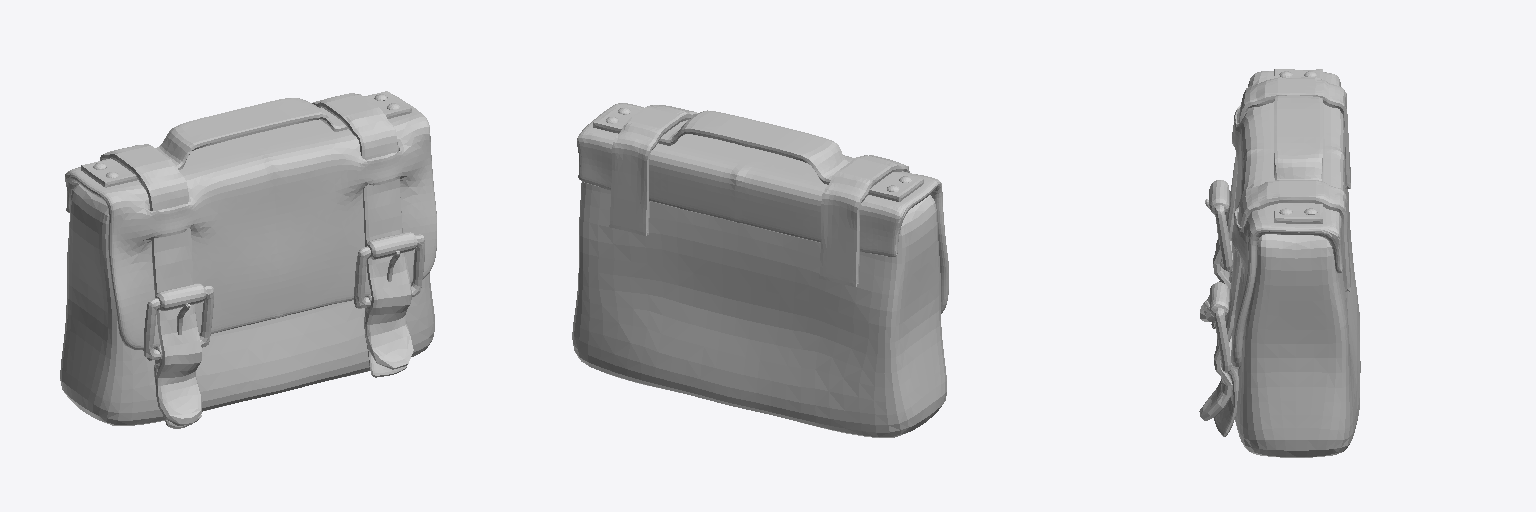
The model's file is sach1.OBJ.
3 views of the same model, side by side, from view 1: azimuth 30°, elevation 25°; view 2: azimuth 150°, elevation 25°; view 3: azimuth 270°, elevation 25° (orthographic).
Parts seen in each view (by area): view 1: Group55837, Group7265, Group63743, Group63742, Group35527, Group47810, Group47811, Group47809, Group47808; view 2: Group7265, Group55837, Group35527, Group63743, Group63742; view 3: Group7265, Group55837, Group35527, Group63742, Group63743, Group14140, Group47811, Group47810, Group47809, Group47808.
Part boxes in pixels (left/top/right/bottom): Group55837: left=65, top=94, right=436, bottom=349; Group7265: left=60, top=184, right=434, bottom=425; Group63743: left=100, top=144, right=201, bottom=425; Group63742: left=312, top=93, right=413, bottom=369; Group35527: left=81, top=91, right=411, bottom=187; Group47810: left=354, top=234, right=424, bottom=308; Group47811: left=143, top=286, right=213, bottom=360; Group47809: left=155, top=283, right=206, bottom=310; Group47808: left=366, top=232, right=417, bottom=259; Group7265: left=572, top=182, right=946, bottom=437; Group55837: left=577, top=103, right=948, bottom=313; Group35527: left=593, top=104, right=923, bottom=201; Group63743: left=819, top=155, right=909, bottom=286; Group63742: left=609, top=105, right=697, bottom=235; Group7265: left=1235, top=189, right=1360, bottom=457; Group55837: left=1231, top=71, right=1344, bottom=368; Group35527: left=1274, top=69, right=1322, bottom=223; Group63742: left=1199, top=180, right=1350, bottom=420; Group63743: left=1200, top=77, right=1350, bottom=321; Group14140: left=1214, top=342, right=1238, bottom=436; Group47811: left=1215, top=205, right=1232, bottom=270; Group47810: left=1215, top=308, right=1231, bottom=372; Group47809: left=1209, top=180, right=1229, bottom=214; Group47808: left=1209, top=282, right=1229, bottom=316.
Size of the model in its own units: 2.49 by 1.81 by 1.02.